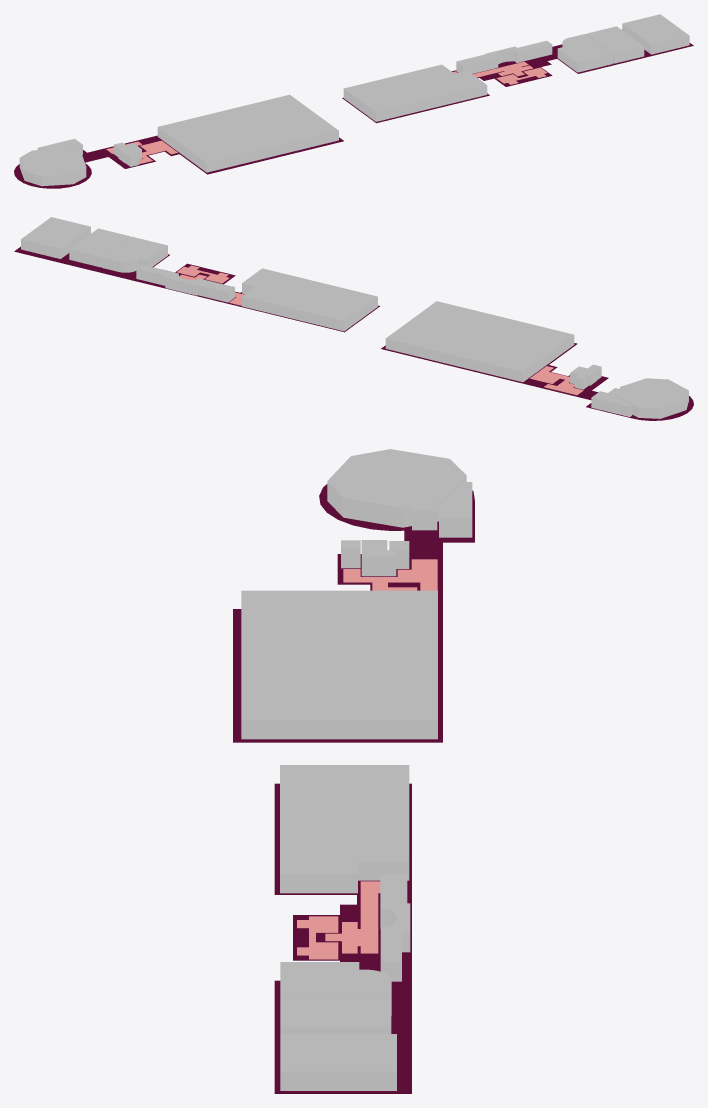
Rendered from njc-b2-v5-30-4.glb.
3 renders of one model, top to bottom at view 1: azimuth 30°, elevation 25°; view 2: azimuth 150°, elevation 25°; view 3: azimuth 270°, elevation 25°, orthographic. The views are drawn at different scales.
Parts seen in each view (by area): view 1: None, Gym, Base, Foot, Mtoilet, Ftoilet; view 2: None, Gym, Base, Foot, Ftoilet, Mtoilet; view 3: None, Gym, Base, Foot, Mtoilet, Ftoilet, Ftoilet.001.
Boxes of the visible parts, left/top/right/bottom form: None: left=19, top=14, right=689, bottom=186; Gym: left=343, top=64, right=487, bottom=121; Base: left=14, top=43, right=693, bottom=188; Foot: left=106, top=61, right=547, bottom=164; Mtoilet: left=500, top=40, right=552, bottom=62; Ftoilet: left=456, top=50, right=503, bottom=73; None: left=21, top=217, right=688, bottom=418; Gym: left=242, top=268, right=377, bottom=331; Base: left=14, top=246, right=693, bottom=420; Foot: left=176, top=265, right=583, bottom=395; Ftoilet: left=181, top=278, right=234, bottom=302; Mtoilet: left=136, top=264, right=183, bottom=291; None: left=241, top=449, right=472, bottom=1090; Gym: left=280, top=765, right=409, bottom=893; Base: left=233, top=484, right=474, bottom=1093; Foot: left=297, top=559, right=437, bottom=959; Mtoilet: left=380, top=918, right=410, bottom=981; Ftoilet: left=380, top=874, right=410, bottom=928; Ftoilet.001: left=361, top=540, right=396, bottom=576.
Size of what is drawn, in the model's own units: 13.59 by 0.2 by 2.21.
